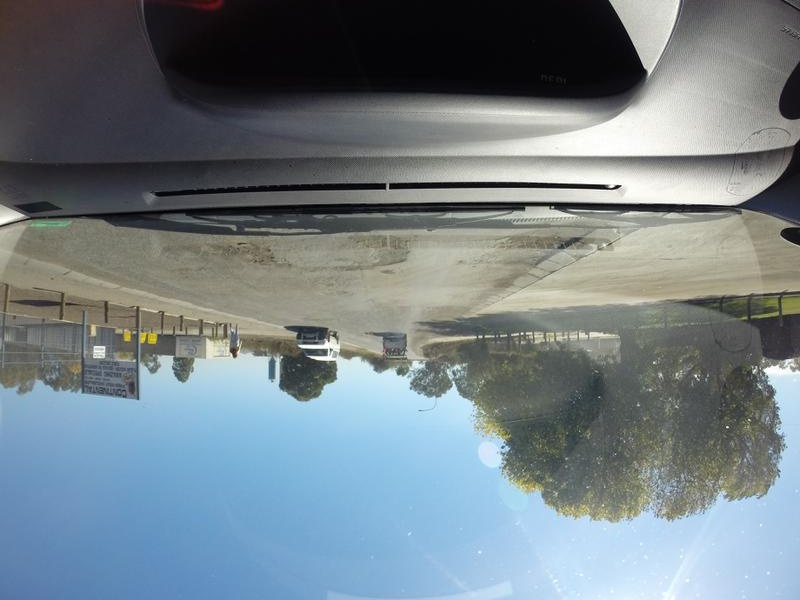pothole: (212, 233, 281, 279), (345, 232, 416, 276), (483, 223, 559, 263)
